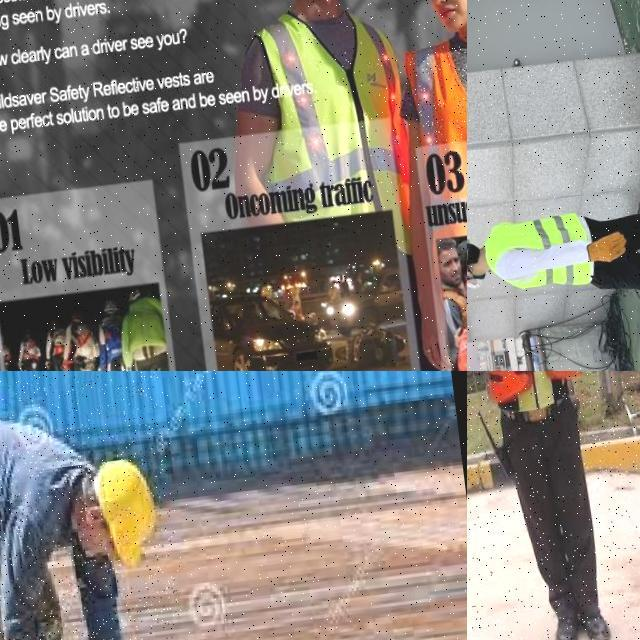boots: (580, 605, 618, 640), (548, 611, 586, 640)
helmet: (88, 451, 168, 576)
vest: (250, 2, 408, 222), (476, 208, 600, 299), (407, 33, 467, 147), (469, 371, 591, 425)
